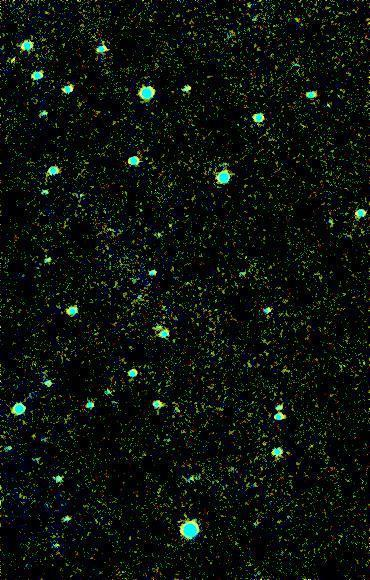star: (0, 41, 25, 71)
